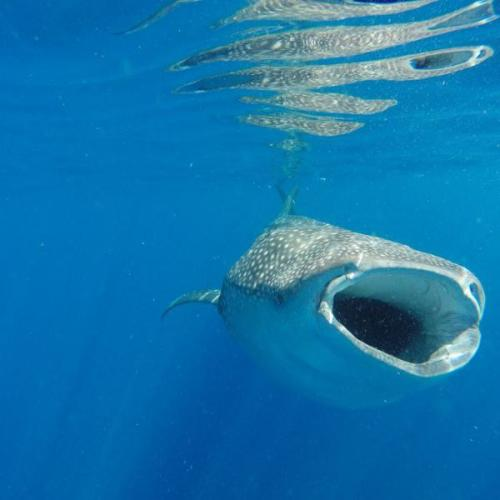shark-endangered: (158, 156, 488, 418)
